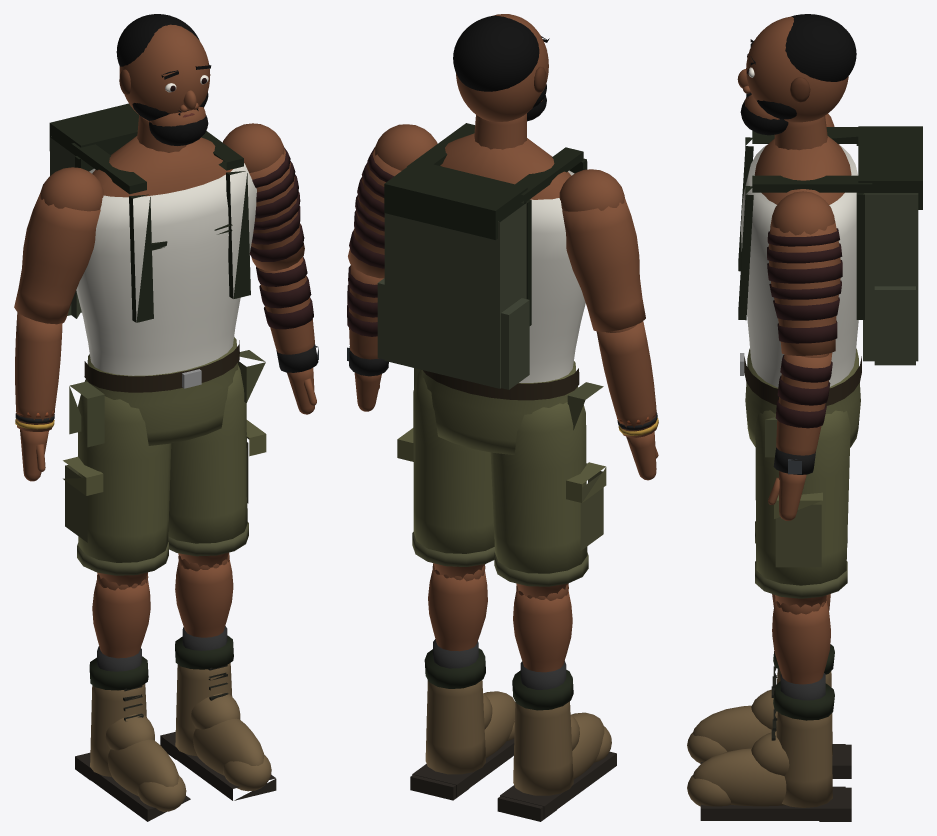
File: male_belizean_build.glb
3 views of the same model, side by side, from view 1: azimuth 30°, elevation 25°; view 2: azimuth 150°, elevation 25°; view 3: azimuth 270°, elevation 25° (orthographic). The views are drawn at different scales.
Visible parts, largest first — view 1: tank_top, shorts_leg_R, shorts_leg_L, upper_arm_R, shorts_waist, head, torso_skin, forearm_R, shin_R, shin_L, backpack_flap, boot_foot_R (+42 smaller); view 2: backpack_body, shorts_leg_R, shorts_leg_L, tank_top, upper_arm_R, backpack_flap, shorts_waist, hair_crop, boot_shaft_L, boot_shaft_R, forearm_R, shin_R (+33 smaller); view 3: shorts_leg_L, tank_top, backpack_body, head, boot_shaft_L, backpack_flap, shin_L, hair_crop, boot_foot_L, upper_arm_L, torso_skin, backpack_pocket_L (+35 smaller).
Boxes of the visible parts, x1,y1,x2,y2 form: tank_top: [76, 163, 256, 375]; shorts_leg_R: [78, 379, 171, 562]; shorts_leg_L: [168, 365, 247, 543]; upper_arm_R: [14, 193, 100, 324]; shorts_waist: [86, 337, 237, 445]; head: [119, 24, 210, 121]; torso_skin: [92, 136, 232, 197]; forearm_R: [15, 312, 62, 431]; shin_R: [92, 579, 150, 658]; shin_L: [175, 559, 233, 637]; backpack_flap: [49, 103, 138, 171]; boot_foot_R: [107, 739, 178, 796]; backpack_body: [384, 203, 526, 388]; shorts_leg_R: [490, 386, 587, 573]; shorts_leg_L: [413, 369, 494, 566]; tank_top: [519, 170, 585, 382]; upper_arm_R: [562, 198, 645, 331]; backpack_flap: [384, 160, 527, 239]; shorts_waist: [421, 361, 577, 454]; hair_crop: [453, 15, 539, 91]; boot_shaft_L: [425, 680, 485, 774]; boot_shaft_R: [513, 701, 573, 795]; forearm_R: [596, 321, 656, 437]; shin_R: [513, 590, 572, 672]; shorts_leg_L: [755, 410, 850, 585]; tank_top: [741, 145, 858, 387]; backpack_body: [863, 193, 918, 361]; head: [746, 16, 848, 122]; boot_shaft_L: [776, 712, 832, 807]; backpack_flap: [858, 126, 922, 209]; shin_L: [772, 601, 830, 684]; hair_crop: [785, 14, 856, 81]; boot_foot_L: [692, 748, 786, 806]; upper_arm_L: [768, 221, 840, 355]; torso_skin: [754, 136, 851, 204]; backpack_pocket_L: [874, 286, 915, 365].
Size of the model in its own units: 0.7062 by 1.7 by 0.471.
